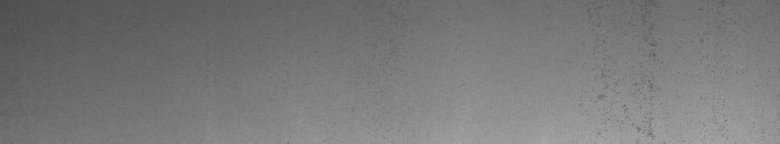ib: (595, 38, 663, 136)
